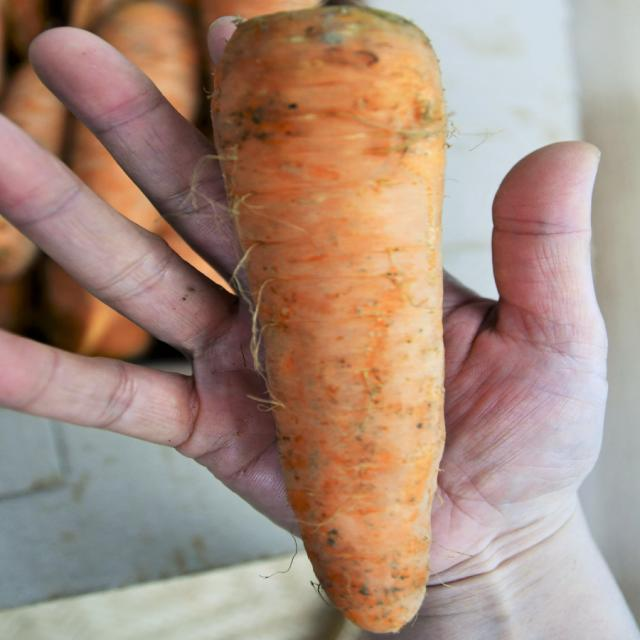carrot: (212, 7, 450, 637)
